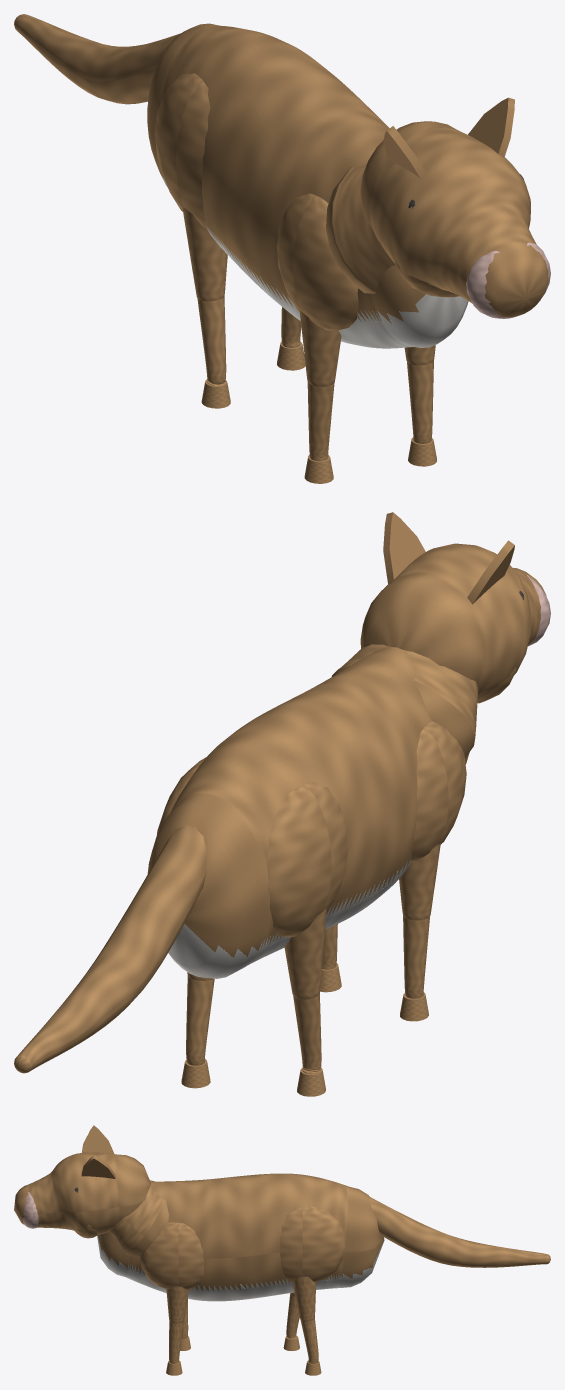
File: farm-and-working-animals-hd-farm-cat-59598d34__29205.glb
The picture shows the model from 3 angles, top to bottom: view 1: azimuth 30°, elevation 25°; view 2: azimuth 150°, elevation 25°; view 3: azimuth 270°, elevation 25°; orthographic projection. The views are drawn at different scales.
Visible parts, largest first — view 1: farm-cat; view 2: farm-cat; view 3: farm-cat.
Part boxes in pixels (x1,y1,x2,y2): farm-cat: [14, 14, 550, 483]; farm-cat: [14, 512, 550, 1096]; farm-cat: [14, 1125, 550, 1375].
Bounding box in the file's own units: 0.134 × 0.341 × 0.7536.
4 materials, 4 textured.
